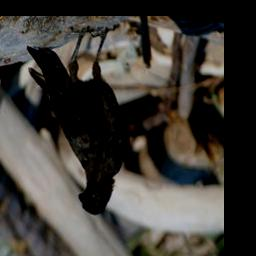Crow: (26, 25, 131, 217)
